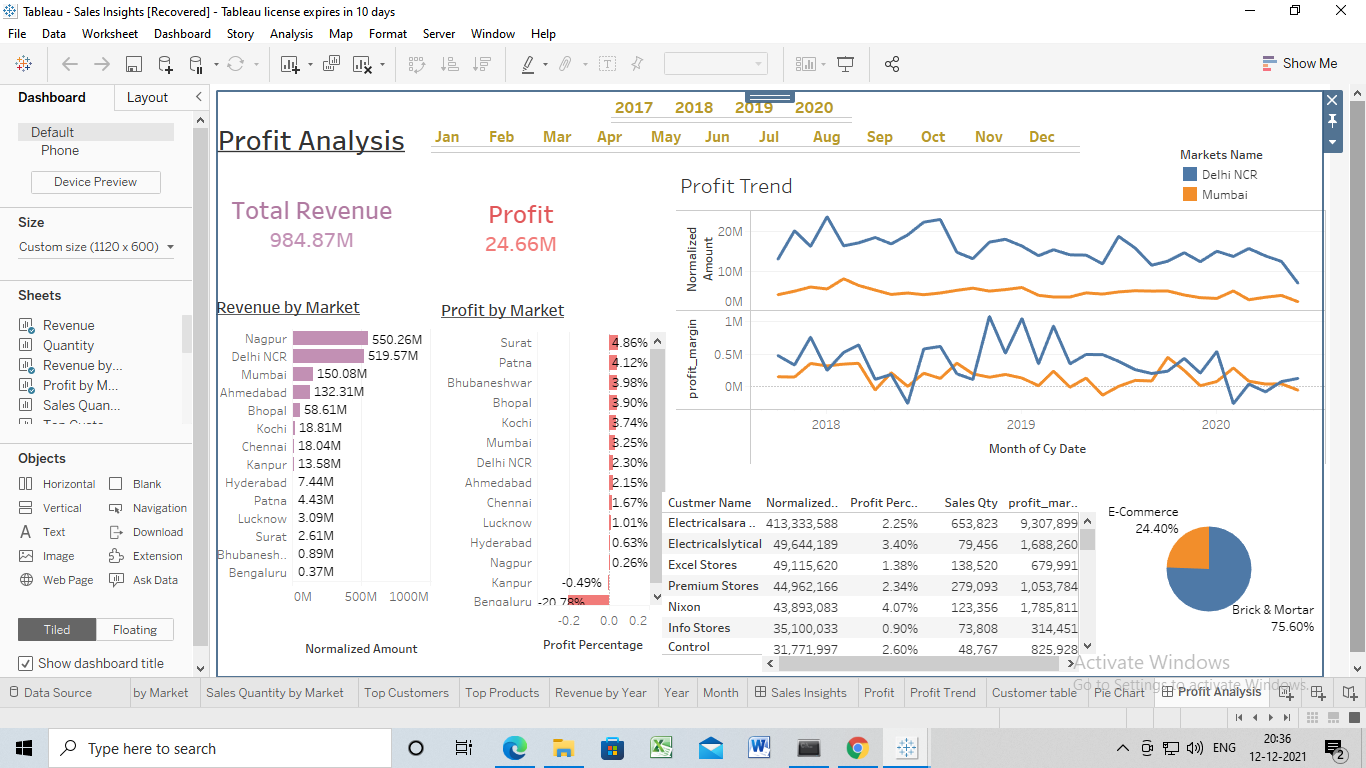

Layout of this report page (visuals, bound fields, positions):
{"tool":"tableau","page":{"name":"Profit Analysis","canvas":[1120,600],"ordinal":0},"visuals":[{"type":"title","box":[5,13,195,84]},{"type":"worksheet","title":"Year","mark":"Automatic","cols":["cy_date"],"box":[401.2,13,245.4,29]},{"type":"worksheet","title":"Month","mark":"Automatic","cols":["cy_date"],"box":[220.9,42,664.9,29]},{"type":"legend","title":"Profit Trend","param":"[federated.1wrotgx1kiv2ew12km91h0g3ou01].[none:markets_name:nk]","box":[970,62,140,58]},{"type":"worksheet","title":"Profit Trend","mark":"Bar","rows":["Calculation_901001447928795136","sales_qty"],"cols":["cy_date"],"box":[466,83,650,298]},{"type":"worksheet","title":"Revenue","mark":"Automatic","box":[12.2,108,184.3,61]},{"type":"worksheet","title":"Profit","mark":"Automatic","box":[261,112,102,68]},{"type":"worksheet","title":"Revenue by Market","mark":"Automatic","rows":["markets_name"],"cols":["Calculation_901001447928795136"],"box":[2,208,219.9,381]},{"type":"worksheet","title":"Profit by Market","mark":"Automatic","rows":["markets_name"],"cols":["Calculation_541839377881427968"],"box":[227,211,229,365]},{"type":"worksheet","title":"Pie Chart","mark":"Pie","box":[893,400,212,170]},{"type":"worksheet","title":"Customer table","mark":"Automatic","rows":["custmer_name"],"box":[452,408,434,180]}]}

Visuals, with their boxes on the page's 1120x600 design canvas (x1, y1, x2, y2). These are canvas units, not pixel positions in the 1366x768 screenshot, which may show the page scaled, cropped or inside an application window:
title: {"left": 5, "top": 13, "right": 200, "bottom": 97}
"Year" worksheet: {"left": 401, "top": 13, "right": 647, "bottom": 42}
"Month" worksheet: {"left": 221, "top": 42, "right": 886, "bottom": 71}
"Profit Trend" legend: {"left": 970, "top": 62, "right": 1110, "bottom": 120}
"Profit Trend" worksheet (Bar marks): {"left": 466, "top": 83, "right": 1116, "bottom": 381}
"Revenue" worksheet: {"left": 12, "top": 108, "right": 196, "bottom": 169}
"Profit" worksheet: {"left": 261, "top": 112, "right": 363, "bottom": 180}
"Revenue by Market" worksheet: {"left": 2, "top": 208, "right": 222, "bottom": 589}
"Profit by Market" worksheet: {"left": 227, "top": 211, "right": 456, "bottom": 576}
"Pie Chart" worksheet (Pie marks): {"left": 893, "top": 400, "right": 1105, "bottom": 570}
"Customer table" worksheet: {"left": 452, "top": 408, "right": 886, "bottom": 588}
